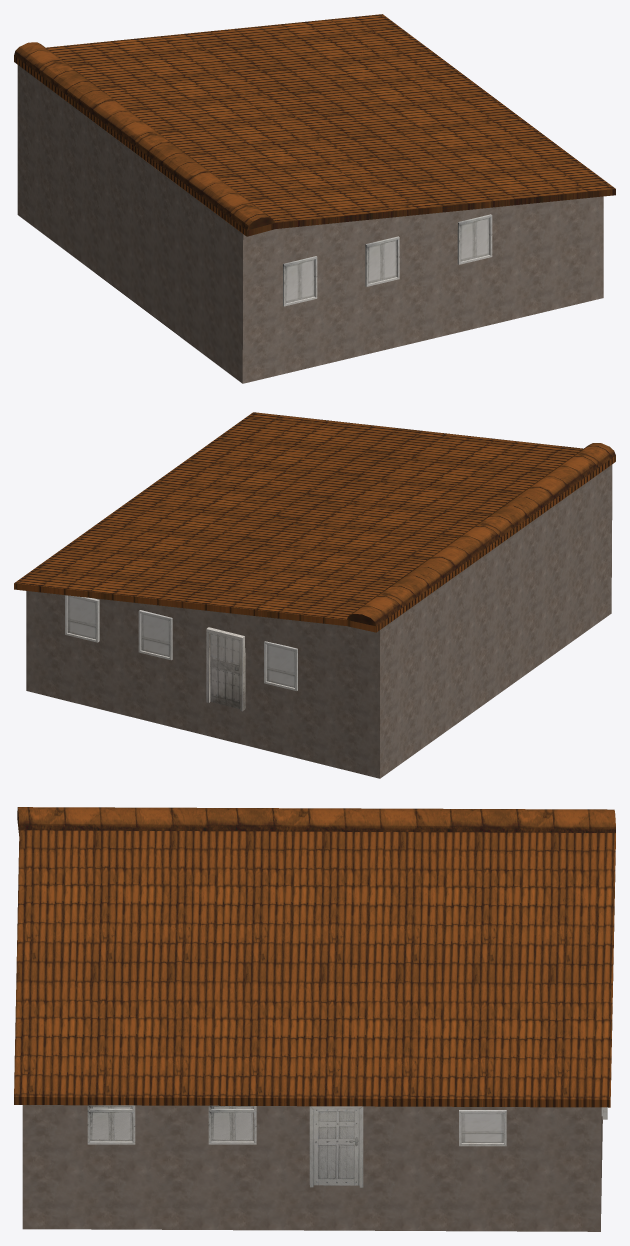
The model's file is Casa_18.fbx.
The picture shows the model from 3 angles, top to bottom: view 1: azimuth 30°, elevation 25°; view 2: azimuth 150°, elevation 25°; view 3: azimuth 270°, elevation 25°; orthographic projection. The views are drawn at different scales.
Visible parts, largest first — view 1: Casa_18; view 2: Casa_18; view 3: Casa_18.
Boxes of the visible parts, x1=… form: Casa_18: x1=14, y1=14, x2=615, y2=383; Casa_18: x1=14, y1=412, x2=615, y2=778; Casa_18: x1=14, y1=807, x2=615, y2=1231.
Size of the model in its own units: 10.54 by 4.49 by 11.76.
